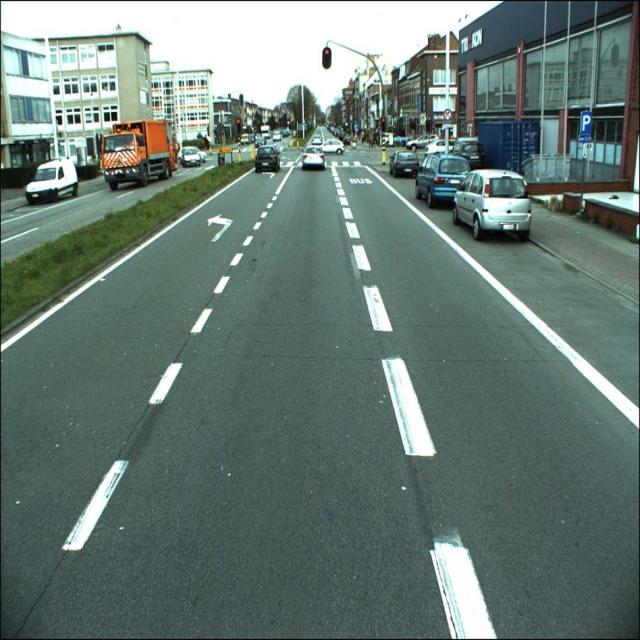kirmizi: (324, 49, 331, 67), (235, 118, 241, 134), (381, 118, 386, 132)
